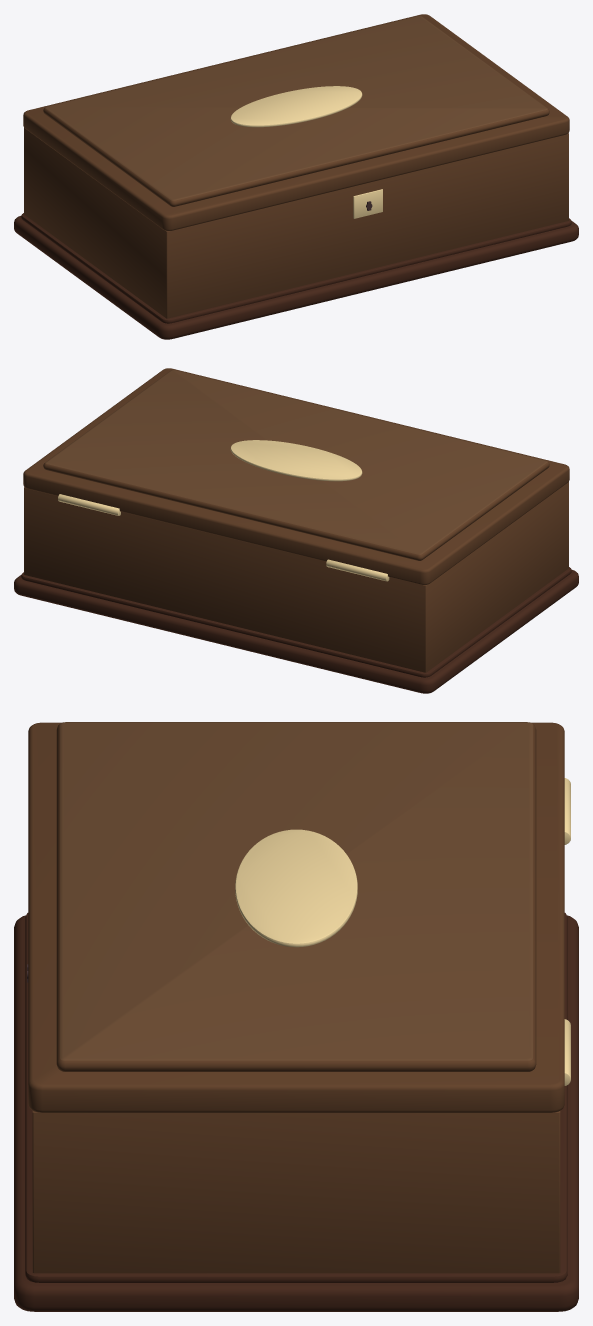
File: humidor.glb
The picture shows the model from 3 angles, top to bottom: view 1: azimuth 30°, elevation 25°; view 2: azimuth 150°, elevation 25°; view 3: azimuth 270°, elevation 25°; orthographic projection. The views are drawn at different scales.
Parts seen in each view (by area): view 1: Lid, Body; view 2: Lid, Body; view 3: Lid, Body.
Part boxes in pixels (x1,y1,x2,y2): Lid: [23, 14, 569, 230]; Body: [14, 128, 578, 339]; Lid: [23, 368, 569, 584]; Body: [14, 482, 578, 693]; Lid: [28, 722, 564, 1112]; Body: [14, 778, 578, 1311].
Bounding box in the file's own units: 6.26 × 1.86 × 3.96.
